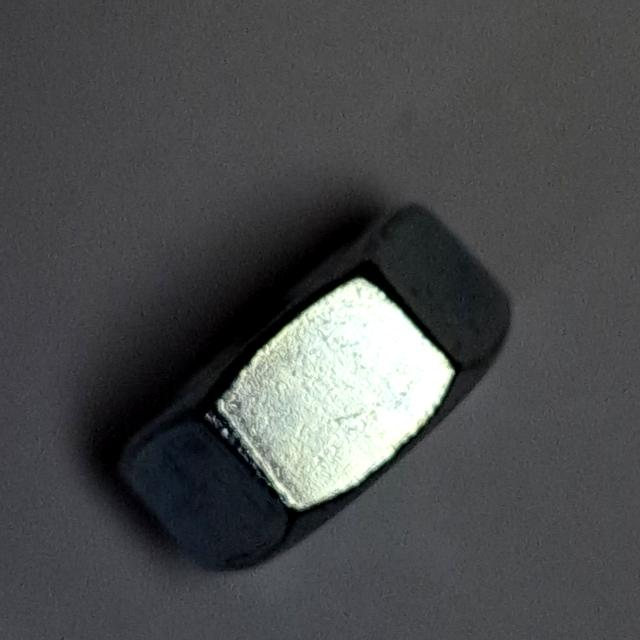Side_Excellent: (100, 192, 520, 587)
